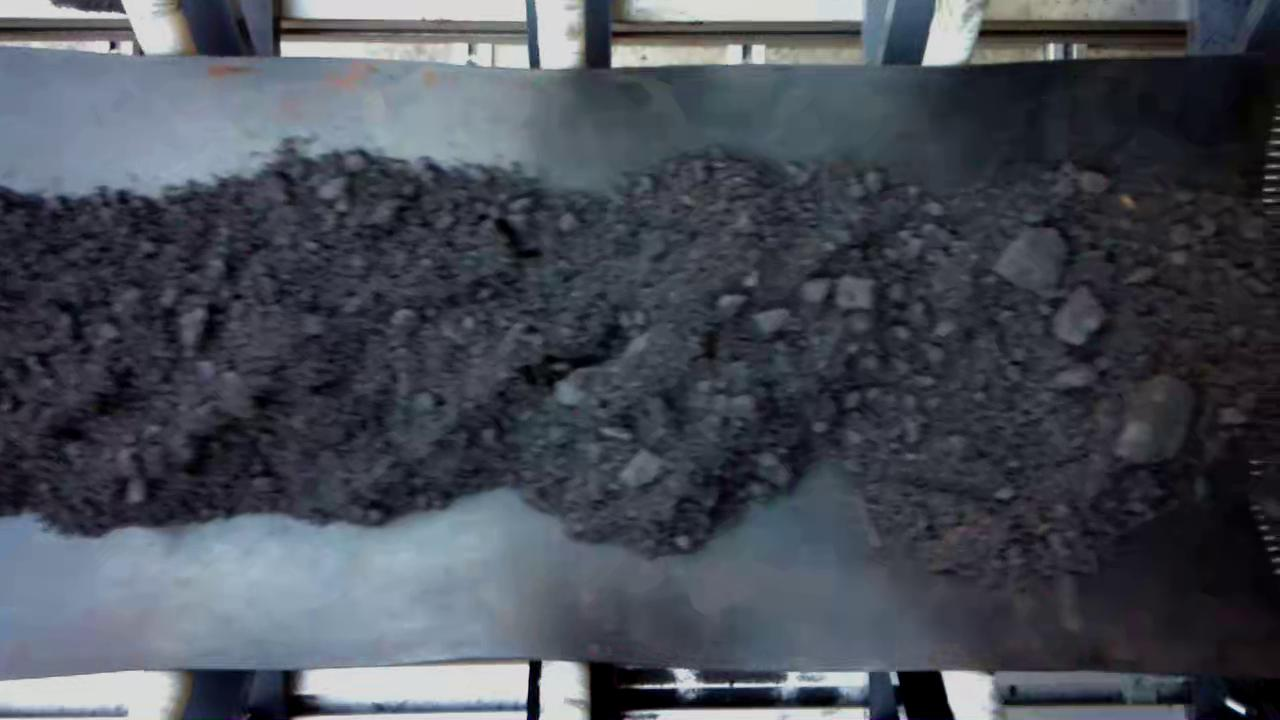conveyor: (5, 70, 1280, 656)
